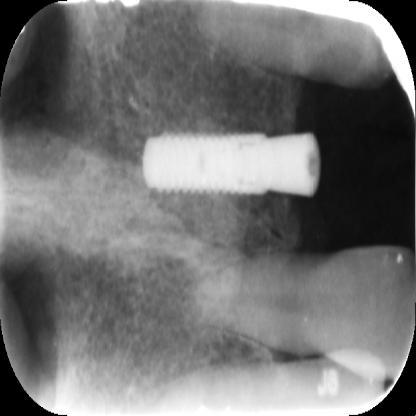ITI: (138, 130, 322, 203)
